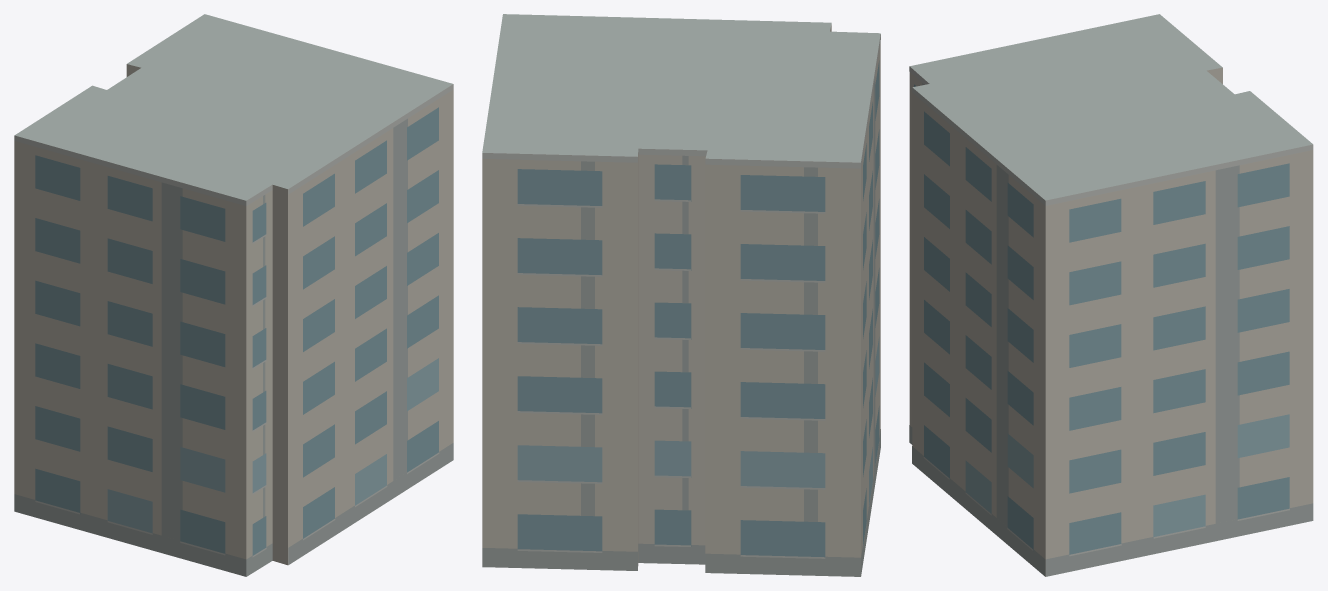
The model's file is survey-upis-32740180.glb.
The picture shows the model from 3 angles, left to right: view 1: azimuth 30°, elevation 25°; view 2: azimuth 150°, elevation 25°; view 3: azimuth 270°, elevation 25°; orthographic projection. The views are drawn at different scales.
Visible parts, largest first — view 1: survey-upis-32740180.tmp; view 2: survey-upis-32740180.tmp; view 3: survey-upis-32740180.tmp.
Part boxes in pixels (bbox=[...]): survey-upis-32740180.tmp: bbox=[14, 14, 453, 576]; survey-upis-32740180.tmp: bbox=[482, 14, 880, 576]; survey-upis-32740180.tmp: bbox=[909, 14, 1313, 576].
Size of the model in its own units: 17.98 by 16.9 by 16.45.
